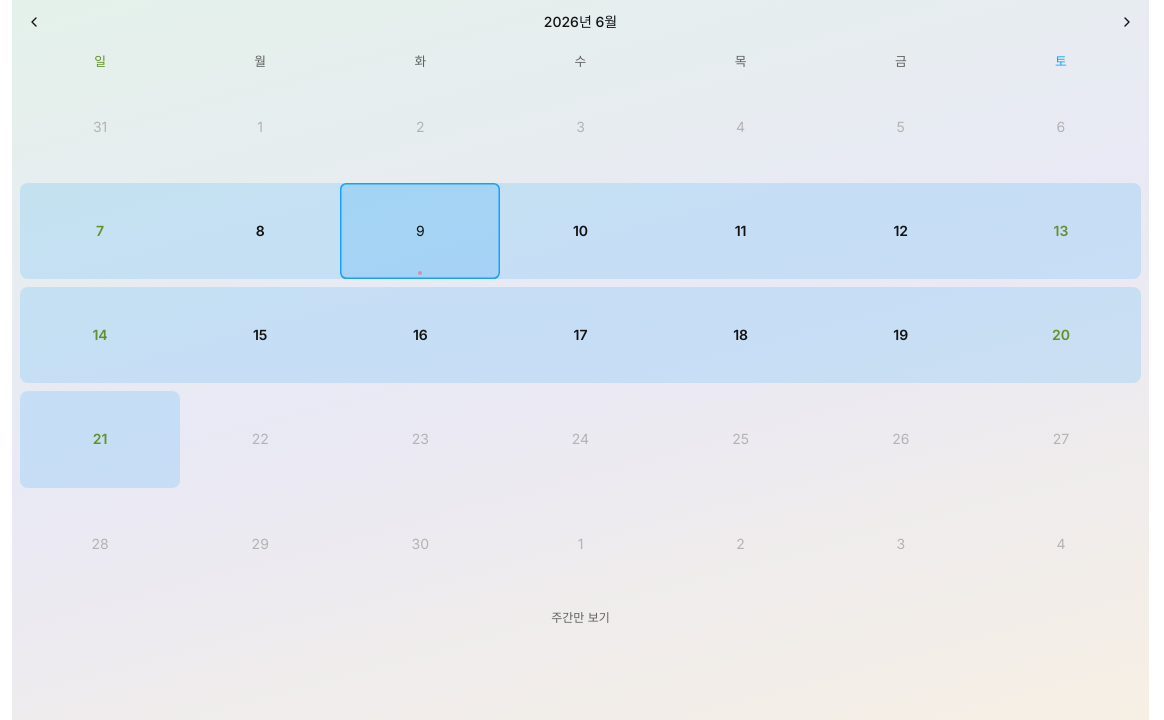
Test: CalendarView 모바일 압축 › 월/주를 스와이프 캐러셀로 렌더한다 — 주 뷰는 앞뒤 핍 3슬라이드(#657)
// 탭 토글 → 주 뷰: '주 달력' 캐러셀 + 이전·현재·다음 3주 스트립.
Click the button "주간만 보기" at (580, 618), box [12, 604, 1149, 632]
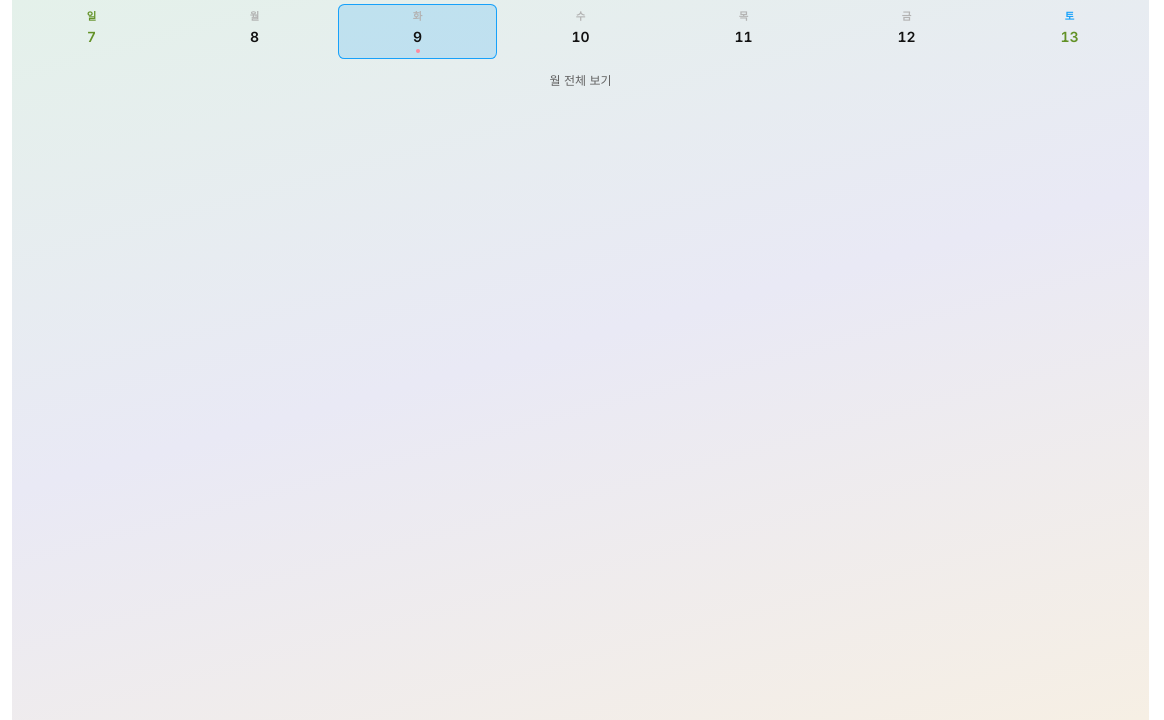
Check: the element named "주 달력" is shown, box [12, 0, 1149, 63]
Check: the number of tables "선택 주" is 3
